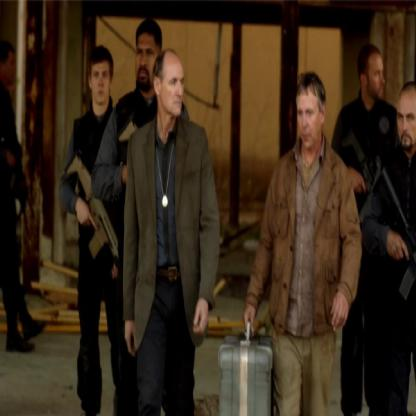Gun: (340, 122, 416, 301), (63, 147, 121, 283)
